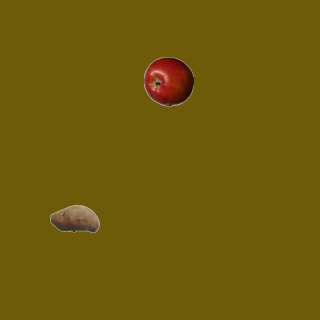Apple Braeburn: (143, 56, 193, 106)
Potato Sweet: (49, 193, 99, 243)
